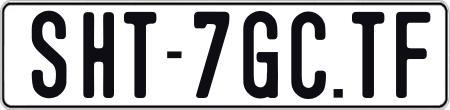7: (192, 11, 231, 103)
C: (291, 11, 330, 99)
F: (395, 10, 434, 96)
G: (240, 11, 275, 101)
H: (81, 9, 114, 96)
S: (29, 11, 69, 104)
T: (350, 10, 386, 102), (121, 12, 154, 98)
